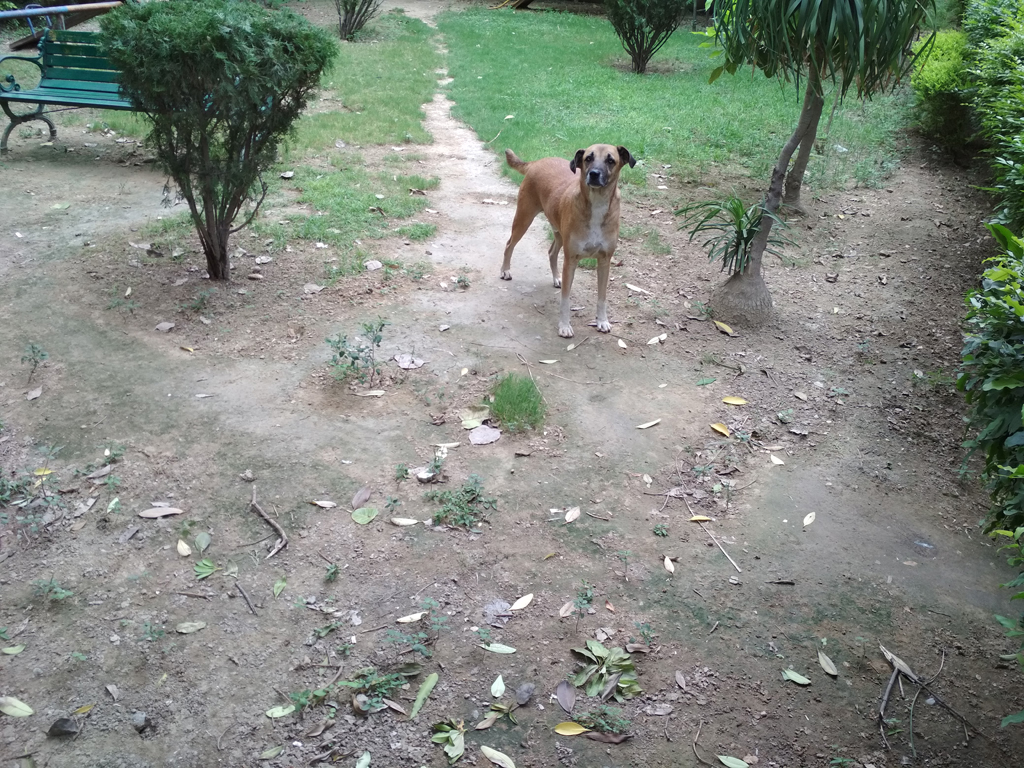dog: (500, 146, 637, 339)
